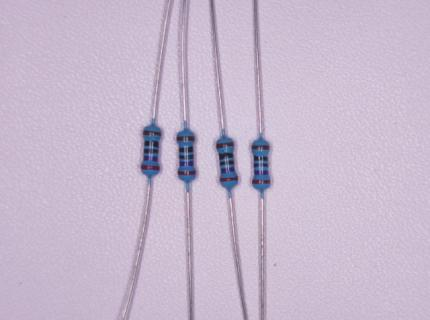Black band: (144, 140, 159, 147), (218, 153, 233, 160), (179, 146, 193, 153), (179, 154, 194, 160), (220, 160, 234, 166), (143, 149, 158, 154), (254, 156, 268, 161), (254, 163, 268, 167)
Brown band: (215, 141, 234, 149), (143, 130, 161, 136), (176, 136, 194, 141), (251, 144, 269, 149)
Red band: (219, 176, 238, 182), (177, 170, 197, 175), (141, 165, 160, 170), (252, 180, 270, 184)
Violet band: (220, 166, 236, 174), (254, 170, 269, 176), (143, 155, 158, 161), (180, 160, 193, 166)
